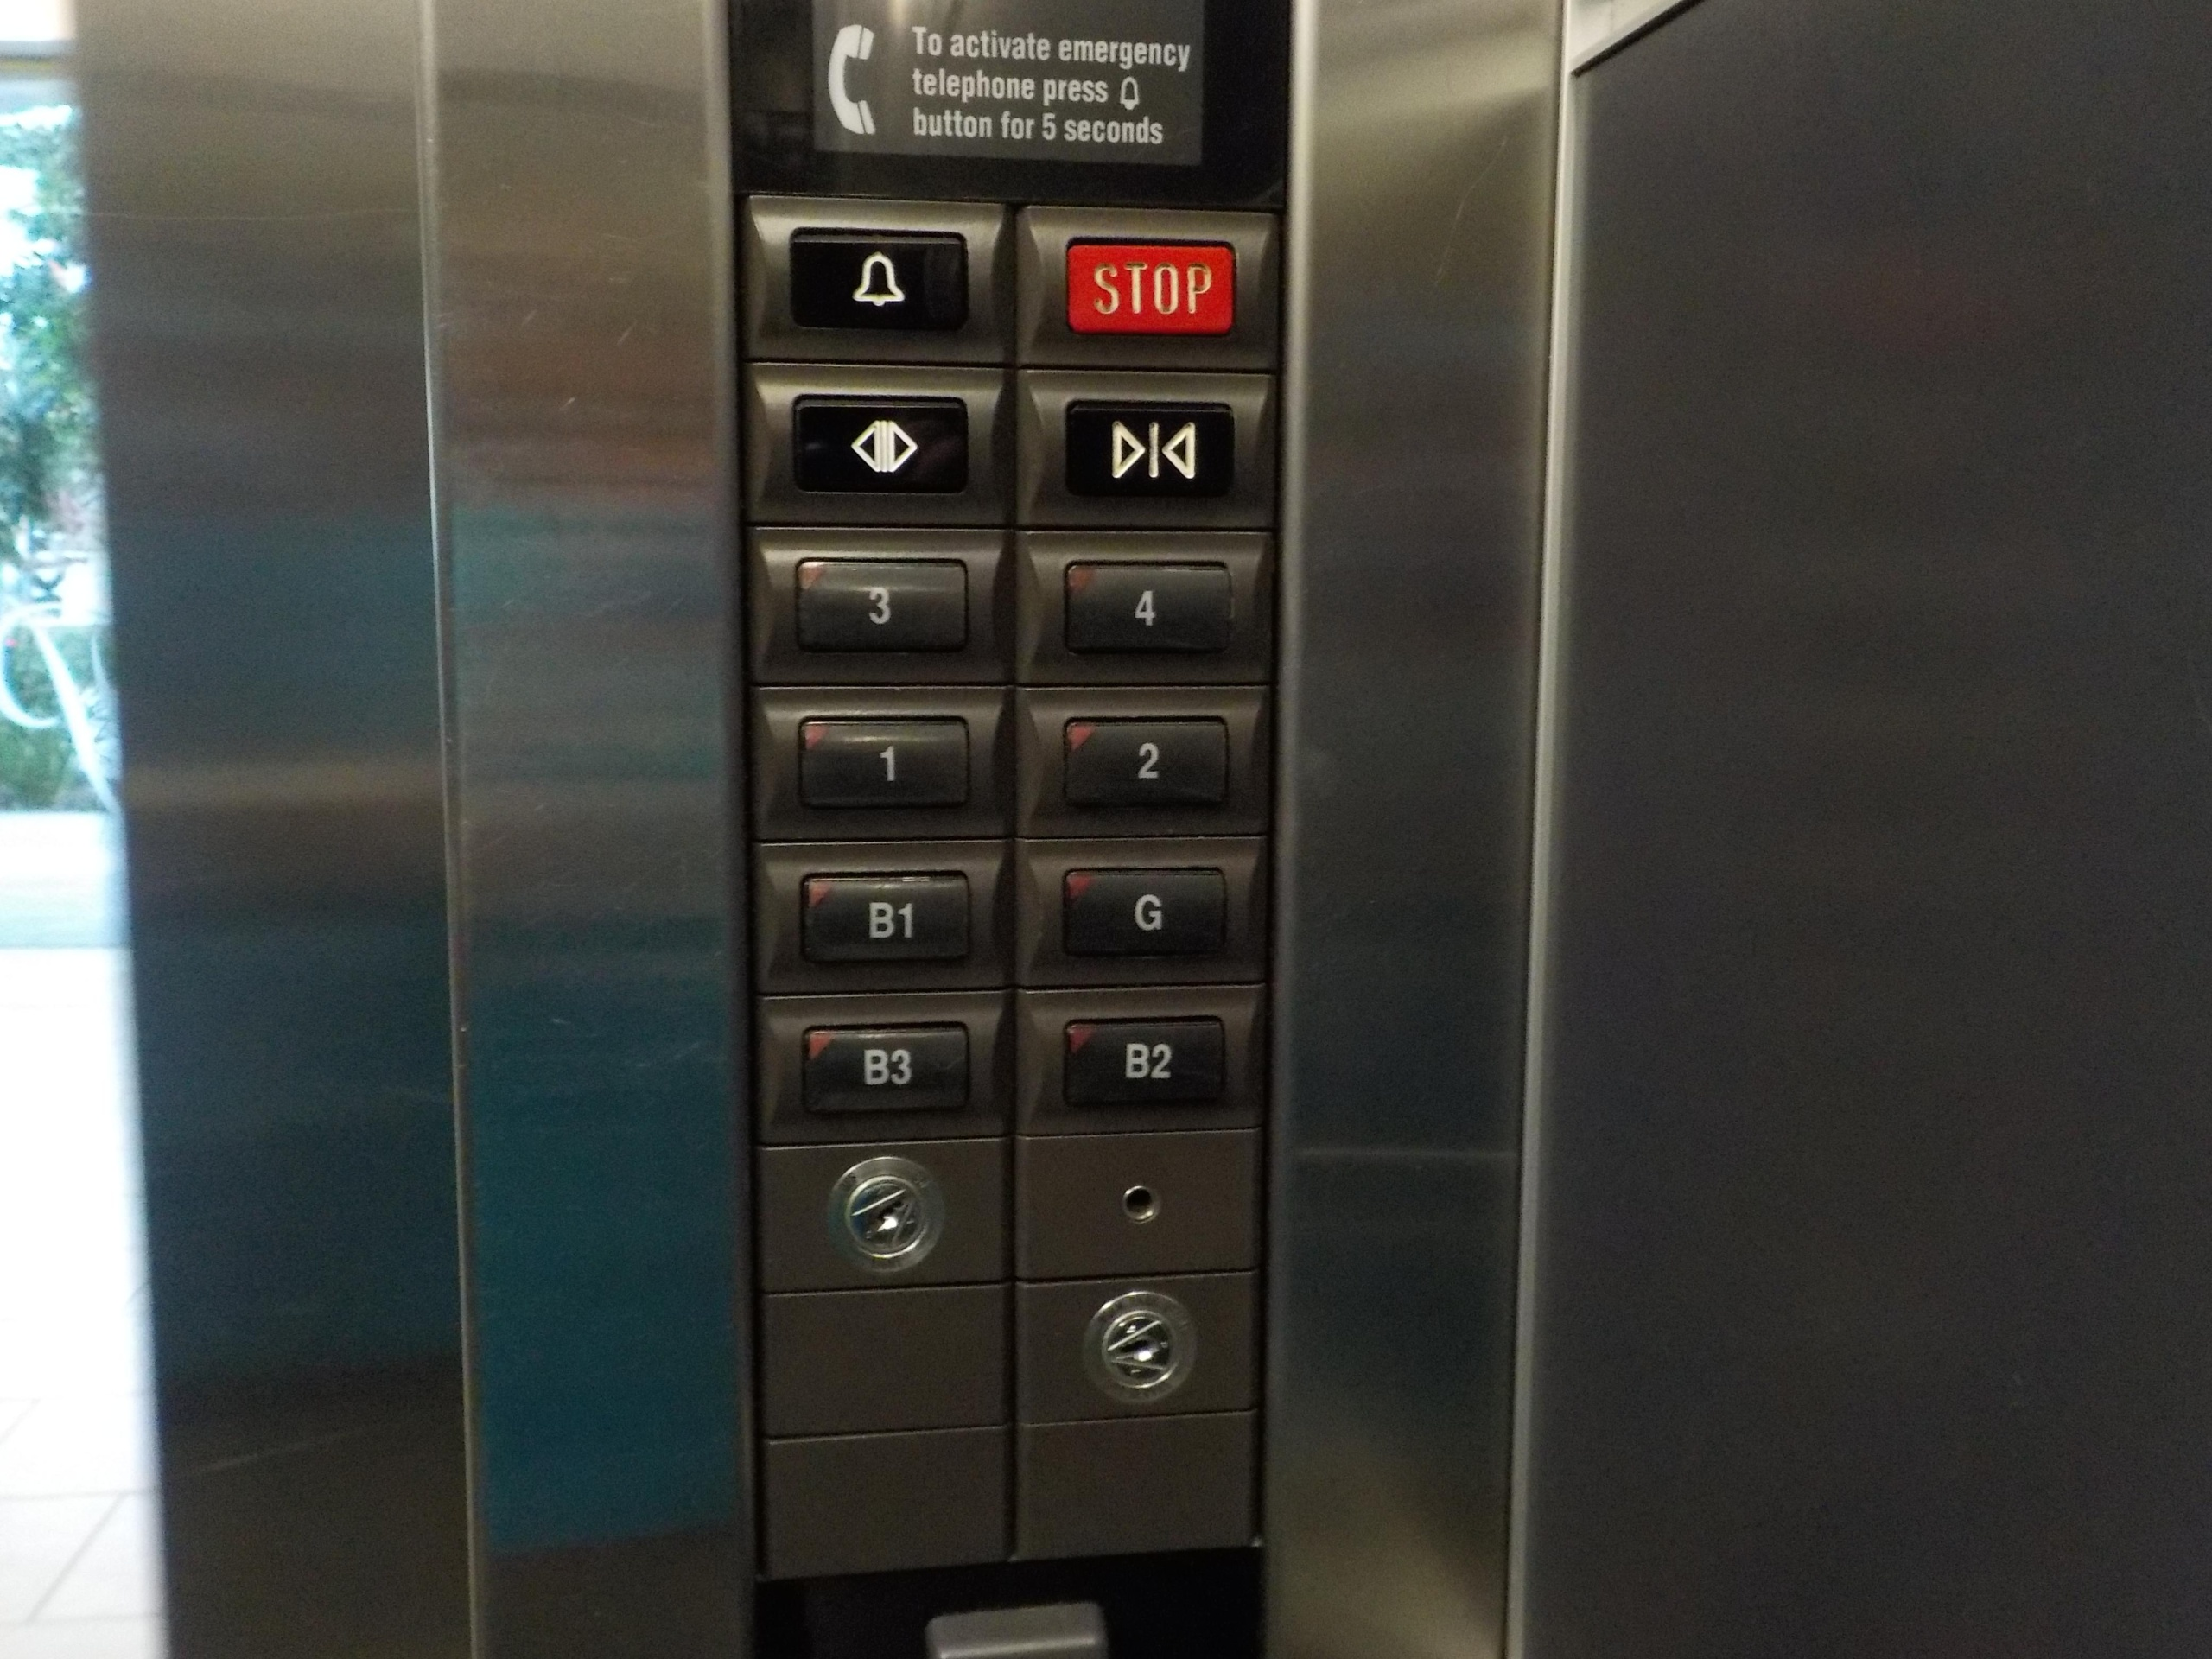1: (798, 714, 974, 809)
2: (1062, 716, 1230, 807)
3: (794, 556, 970, 655)
4: (1062, 559, 1233, 655)
B1: (799, 870, 972, 964)
B2: (1062, 1016, 1226, 1107)
B3: (799, 1021, 972, 1117)
G: (1061, 866, 1228, 958)
alarm: (787, 227, 970, 331)
close: (1062, 399, 1237, 498)
keyhole: (824, 1154, 948, 1276), (1080, 1288, 1200, 1405)
open: (791, 394, 970, 495)
text_stop: (1066, 234, 1238, 340)
